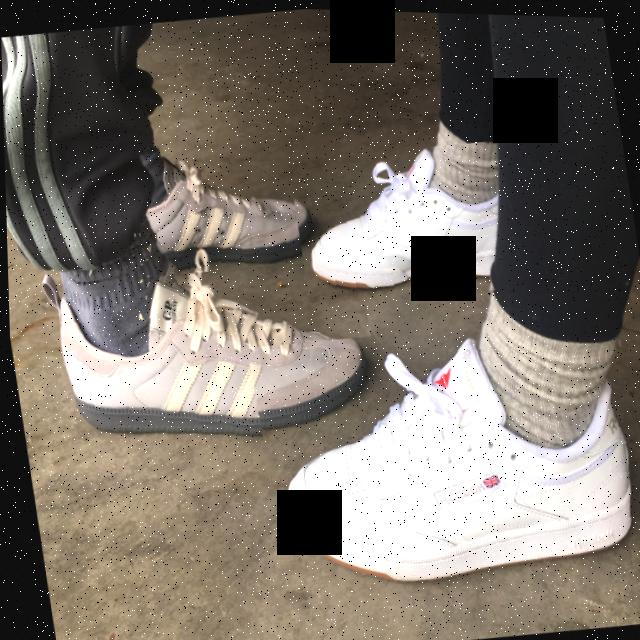shoe: (244, 300, 640, 608), (18, 216, 383, 469), (286, 132, 523, 320), (117, 118, 321, 281)
